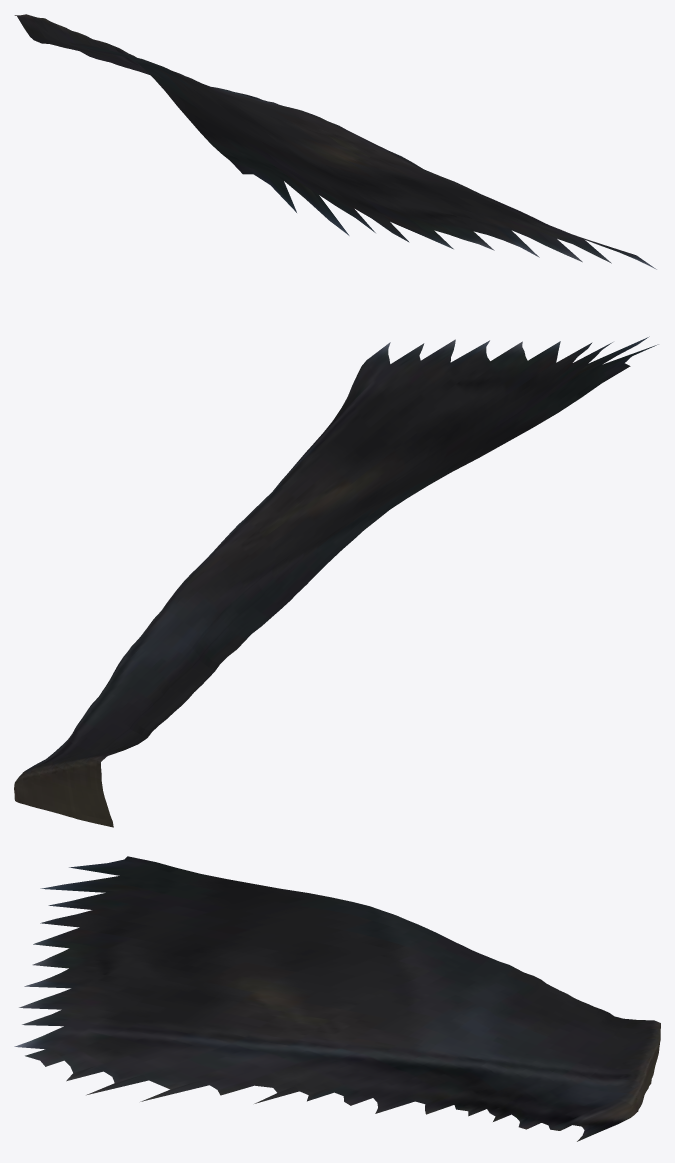
The model's file is observed-surface.glb.
3 renders of one model, top to bottom at view 1: azimuth 30°, elevation 25°; view 2: azimuth 150°, elevation 25°; view 3: azimuth 270°, elevation 25°, orthographic. The views are drawn at different scales.
Parts seen in each view (by area): view 1: geometry_0; view 2: geometry_0; view 3: geometry_0.
Boxes of the visible parts, x1=… form: geometry_0: x1=14, y1=14, x2=656, y2=269; geometry_0: x1=14, y1=336, x2=658, y2=827; geometry_0: x1=14, y1=856, x2=660, y2=1141.
Size of the model in its own units: 0.483 by 0.3891 by 1.15.
Materials: 1 (1 with a texture image).
